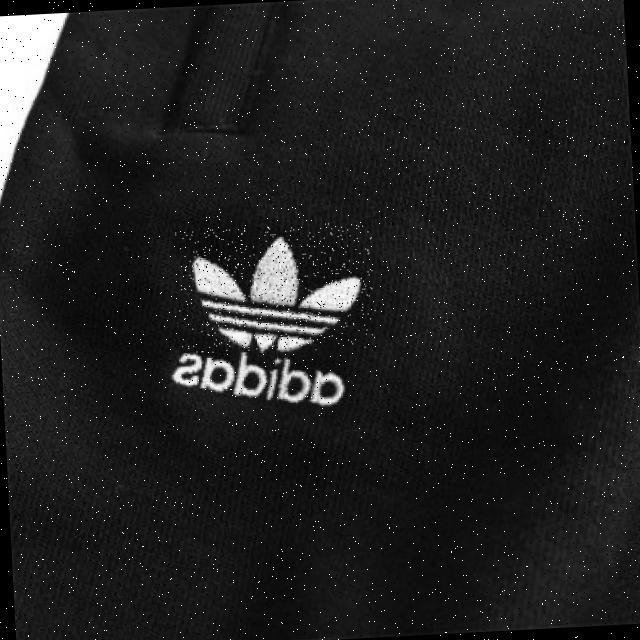Adidas: (176, 221, 378, 357)
